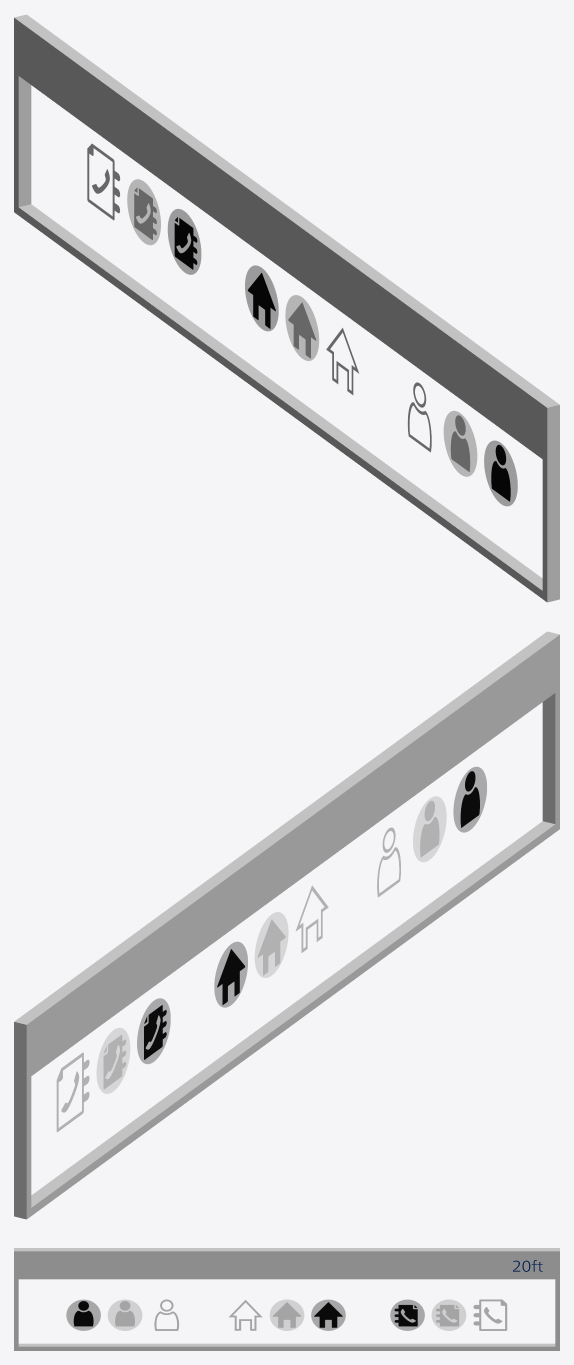
3 renders of one model, top to bottom at view 1: azimuth 30°, elevation 25°; view 2: azimuth 150°, elevation 25°; view 3: azimuth 270°, elevation 25°, orthographic. The views are drawn at different scales.
Visible parts, largest first — view 1: Text.004; view 2: Text.004; view 3: Text.004.
Part boxes in pixels (<box>): Text.004: <box>14,14,559,602</box>; Text.004: <box>14,631,559,1219</box>; Text.004: <box>14,1248,559,1350</box>.
Bounding box in the file's own units: 0.3407 × 2.92 × 14.5.
11 materials, 9 textured.
